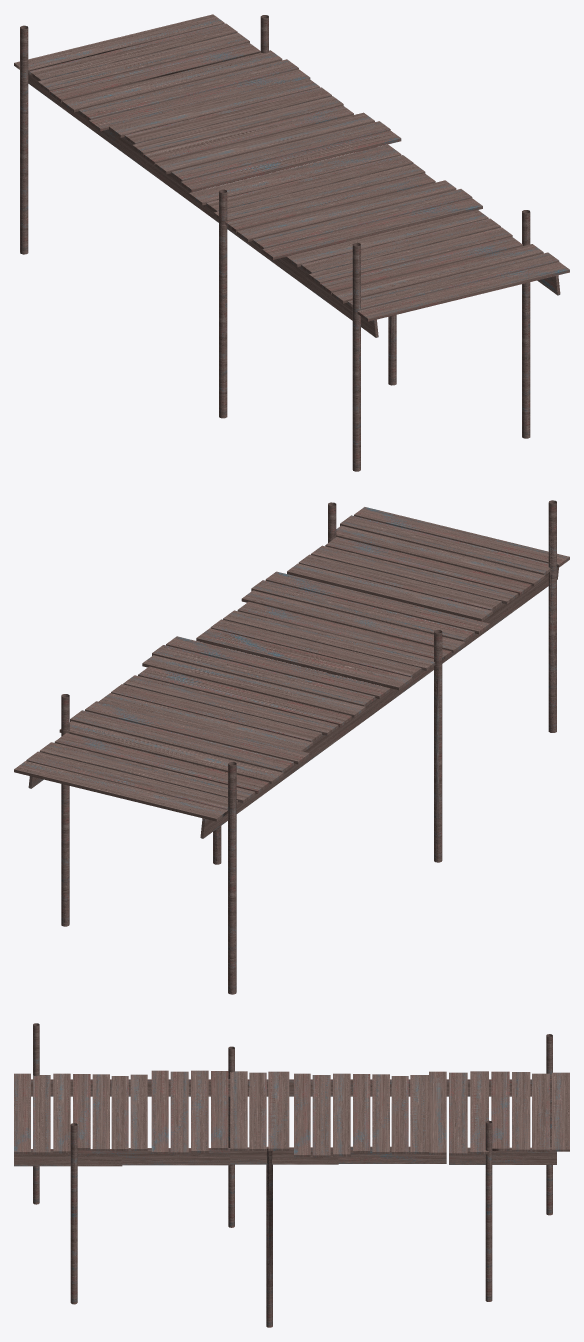
Rendered from Small_Bridge.fbx.
The picture shows the model from 3 angles, top to bottom: view 1: azimuth 30°, elevation 25°; view 2: azimuth 150°, elevation 25°; view 3: azimuth 270°, elevation 25°; orthographic projection. The views are drawn at different scales.
Parts seen in each view (by area): view 1: Group1; view 2: Group1; view 3: Group1.
Part boxes in pixels (x1,y1,x2,y2): Group1: (14,14,569,471); Group1: (14,500,569,994); Group1: (14,1023,569,1327).
Size of the model in its own units: 160 by 200 by 437.
